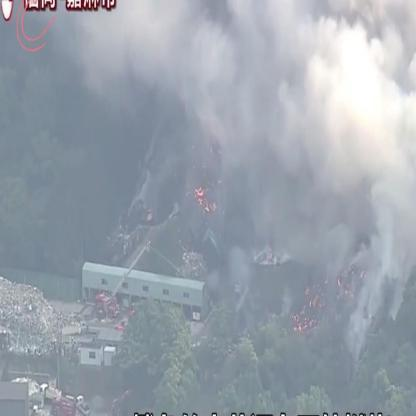smoke: (286, 20, 413, 264), (88, 14, 220, 110), (220, 15, 284, 207)
